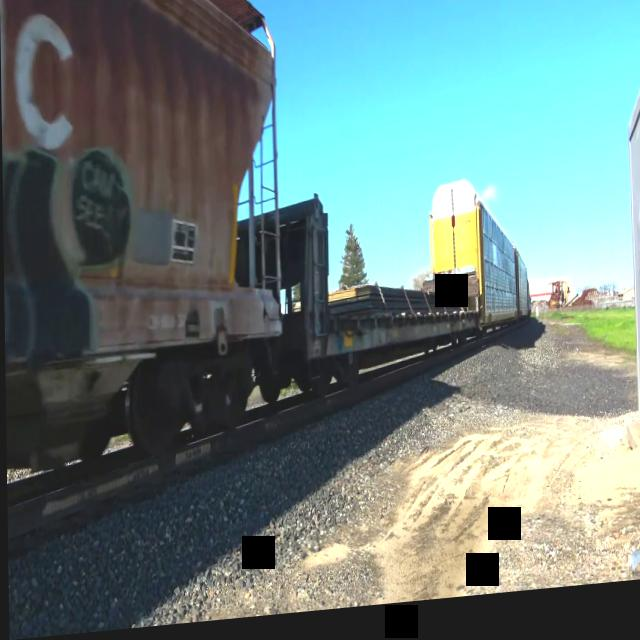autorack: (424, 181, 517, 349)
cargo: (327, 281, 463, 337)
flatcar_bulkhead: (228, 177, 483, 410)
hopper: (0, 0, 292, 510)
